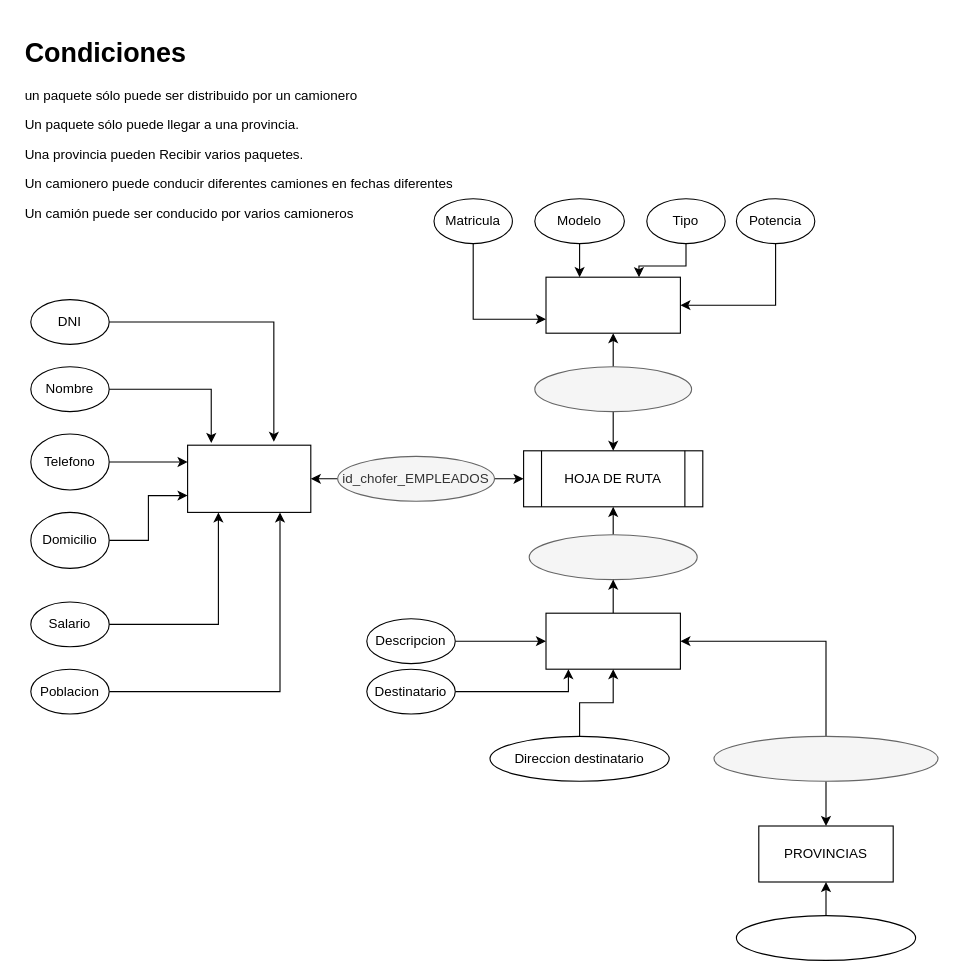
The diagram is 958 pixels wide and 980 high, and some of its shapes have lost their labels. The centre of each missing label's shape, as x and y in pixels:
codigo_paquete _PAQUETES: point (612, 557)
codigo_provincia_PROVINCIAS: point (825, 758)
EMPLEADOS: point (248, 478)
id_camion_VEHICULOS: point (613, 389)
Nombres Provincias: point (825, 937)
PAQUETES: point (612, 640)
VEHICULOS: point (612, 304)
